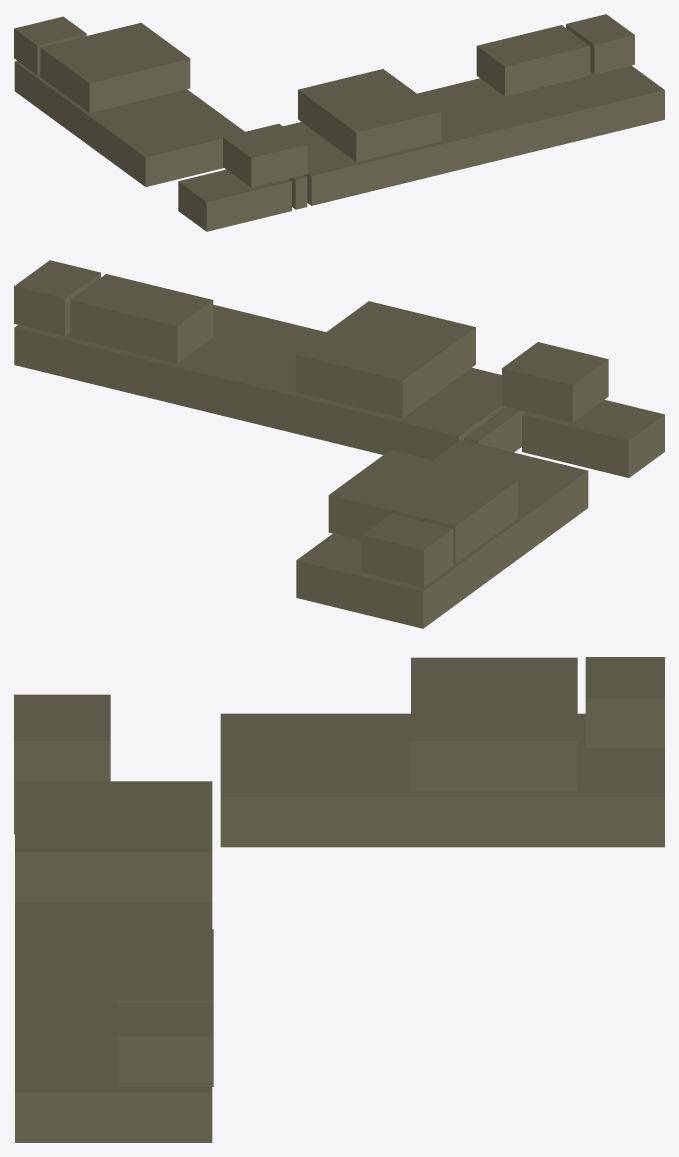
File: SM_PretilEsquinaPaso_v3_Tablon_e2_MuyDanado_LOD1.fbx
The picture shows the model from 3 angles, top to bottom: view 1: azimuth 30°, elevation 25°; view 2: azimuth 150°, elevation 25°; view 3: azimuth 270°, elevation 25°; orthographic projection. The views are drawn at different scales.
Visible parts, largest first — view 1: SM_pretil_azotea_v54_LOD1; view 2: SM_pretil_azotea_v54_LOD1; view 3: SM_pretil_azotea_v54_LOD1.
Boxes of the visible parts, left/top/right/bottom form: SM_pretil_azotea_v54_LOD1: left=14, top=14, right=664, bottom=231; SM_pretil_azotea_v54_LOD1: left=14, top=260, right=664, bottom=628; SM_pretil_azotea_v54_LOD1: left=14, top=657, right=664, bottom=1142.
Size of the model in its own units: 4.37 by 0.57 by 3.17.
